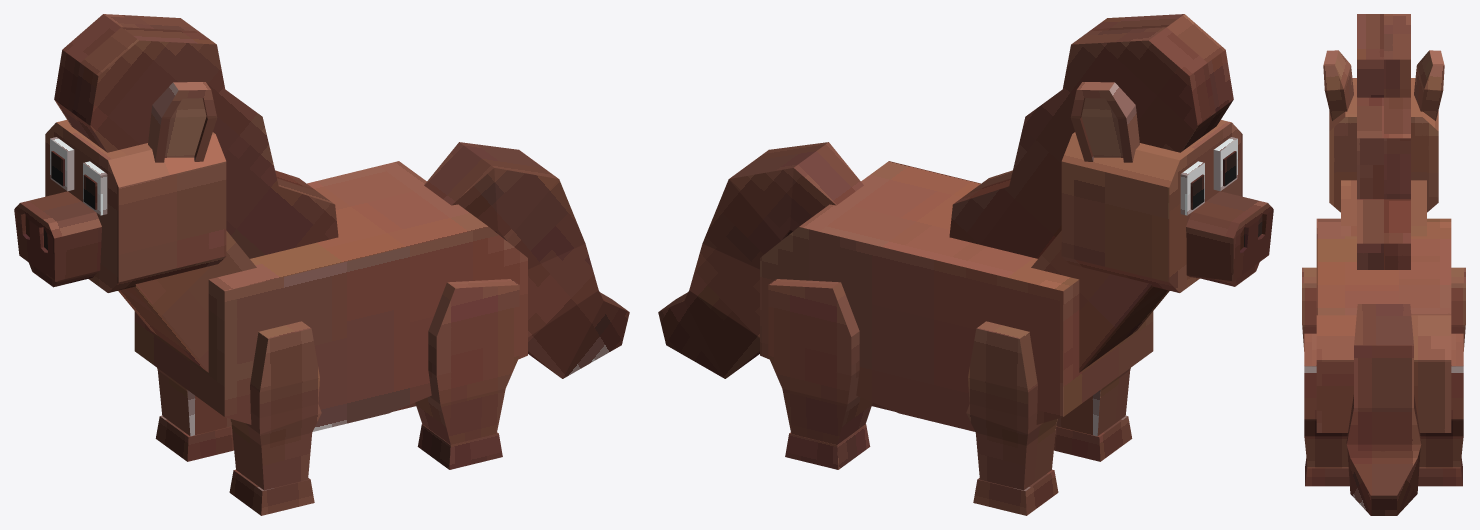
Rendered from animal_pony.obj.
The picture shows the model from 3 angles, left to right: view 1: azimuth 30°, elevation 25°; view 2: azimuth 150°, elevation 25°; view 3: azimuth 270°, elevation 25°; orthographic projection. The views are drawn at different scales.
Visible parts, largest first — view 1: animal_pony; view 2: animal_pony; view 3: animal_pony.
Boxes of the visible parts, x1,y1,x2,y2 form: animal_pony: (14, 14, 629, 515); animal_pony: (658, 14, 1273, 515); animal_pony: (1302, 14, 1465, 515).
Size of the model in its own units: 6.93 by 5.32 by 2.24.
1 material, 1 textured.
